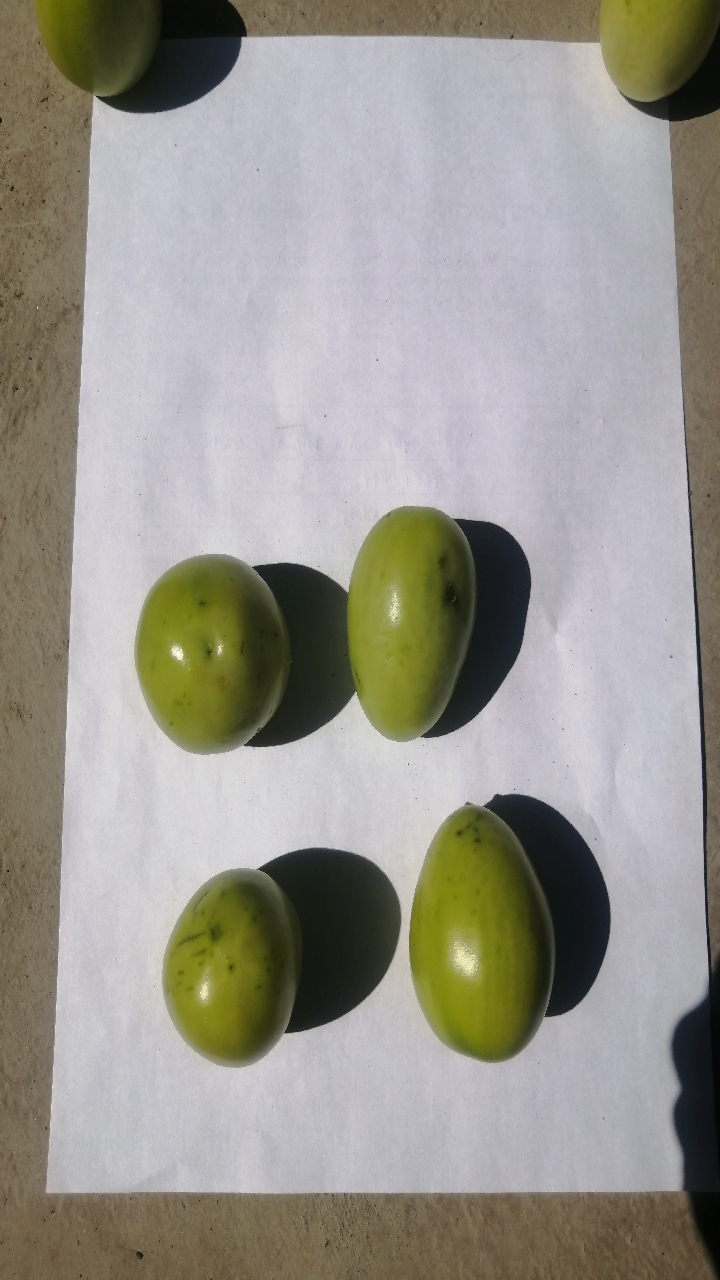tomateVerde: (111, 840, 337, 1092), (312, 475, 503, 759), (388, 788, 560, 1083), (112, 528, 292, 777)
